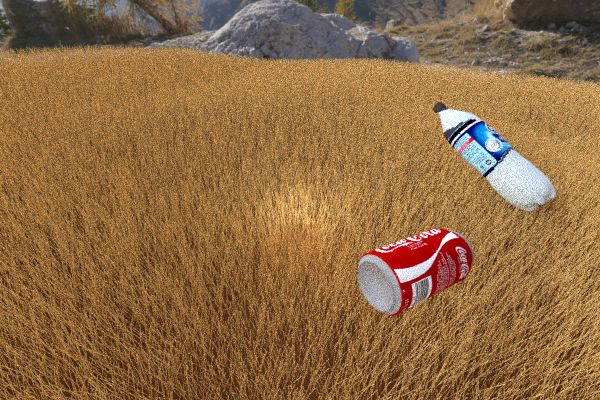bottle: (432, 102, 555, 211)
can: (357, 228, 474, 316)
